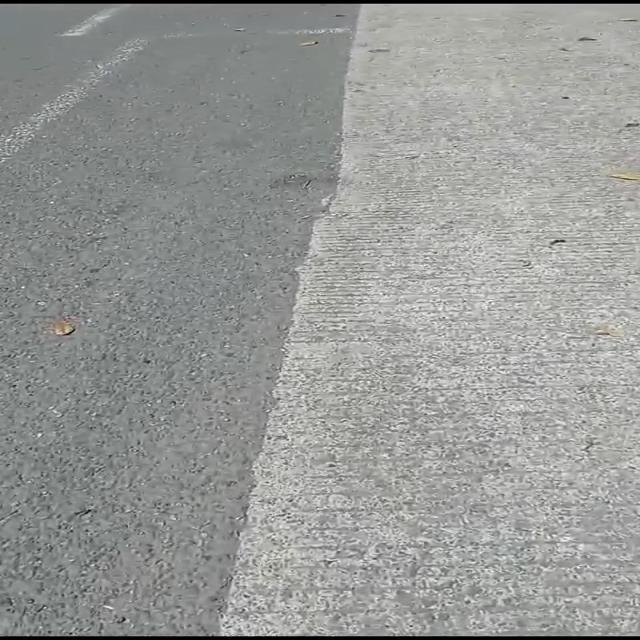Sambungan: (208, 0, 640, 640)
